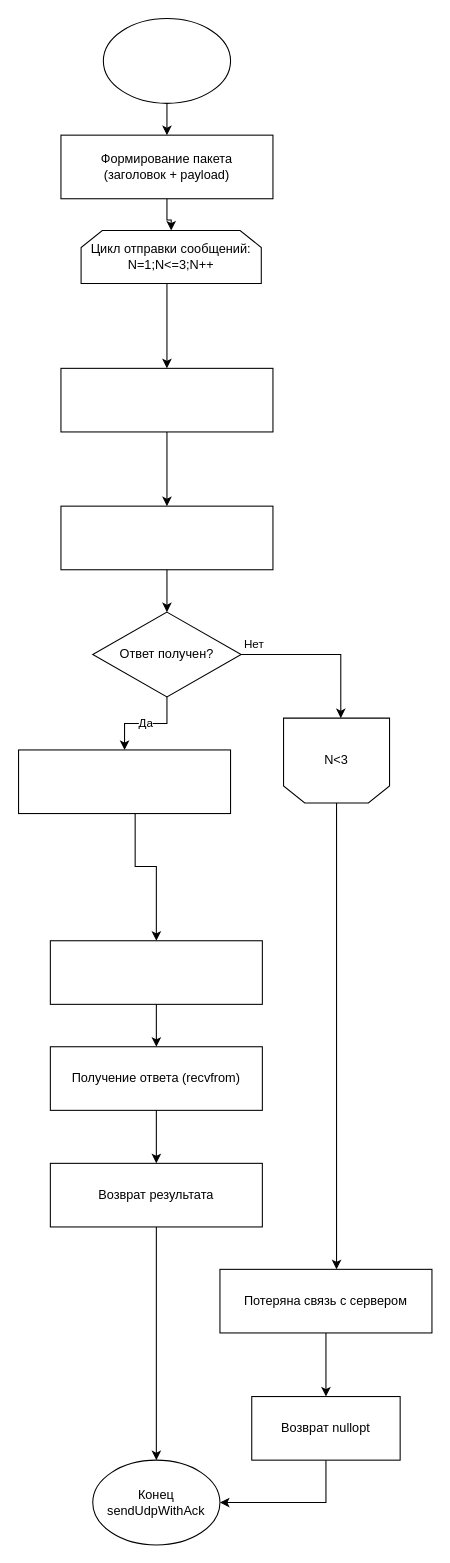
Image size: 450x1563. Some labels were removed from this diagram. Here are the shapes that lost their labels. From the top down, the centre of each, then its label:
point 166,60: Начало sendUdpWithAck
point 166,399: Отправка пакета (sendto)
point 166,537: Ожидание ответа (select, 3 сек)
point 124,781: Получение датаграммы (recvfrom)
point 155,972: Ожидание ответа с данными (select, 3 сек)
